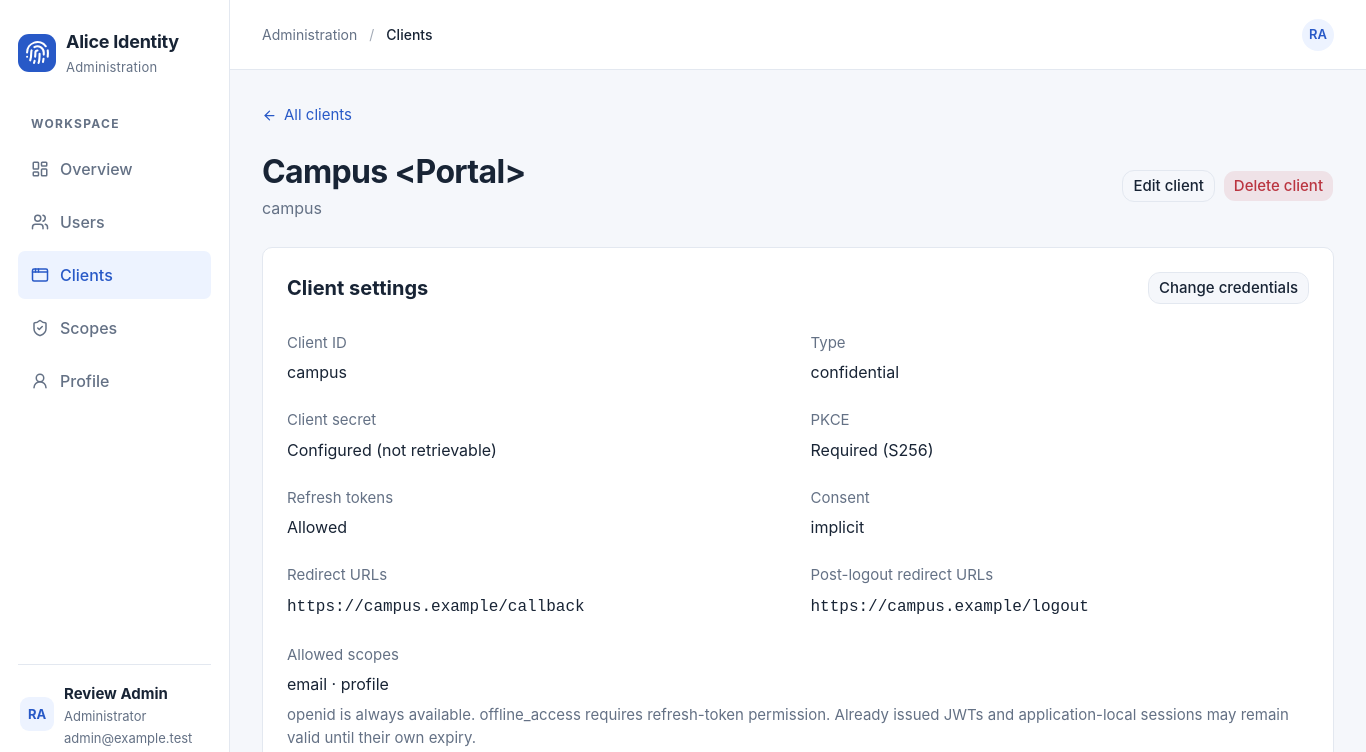
Scenario: client management › edits settings without sending a secret or changing the client ID
The width and height of the screenshot is (1366, 752).
Click the button "Edit client" at (1169, 186), box [1122,170,1215,202]
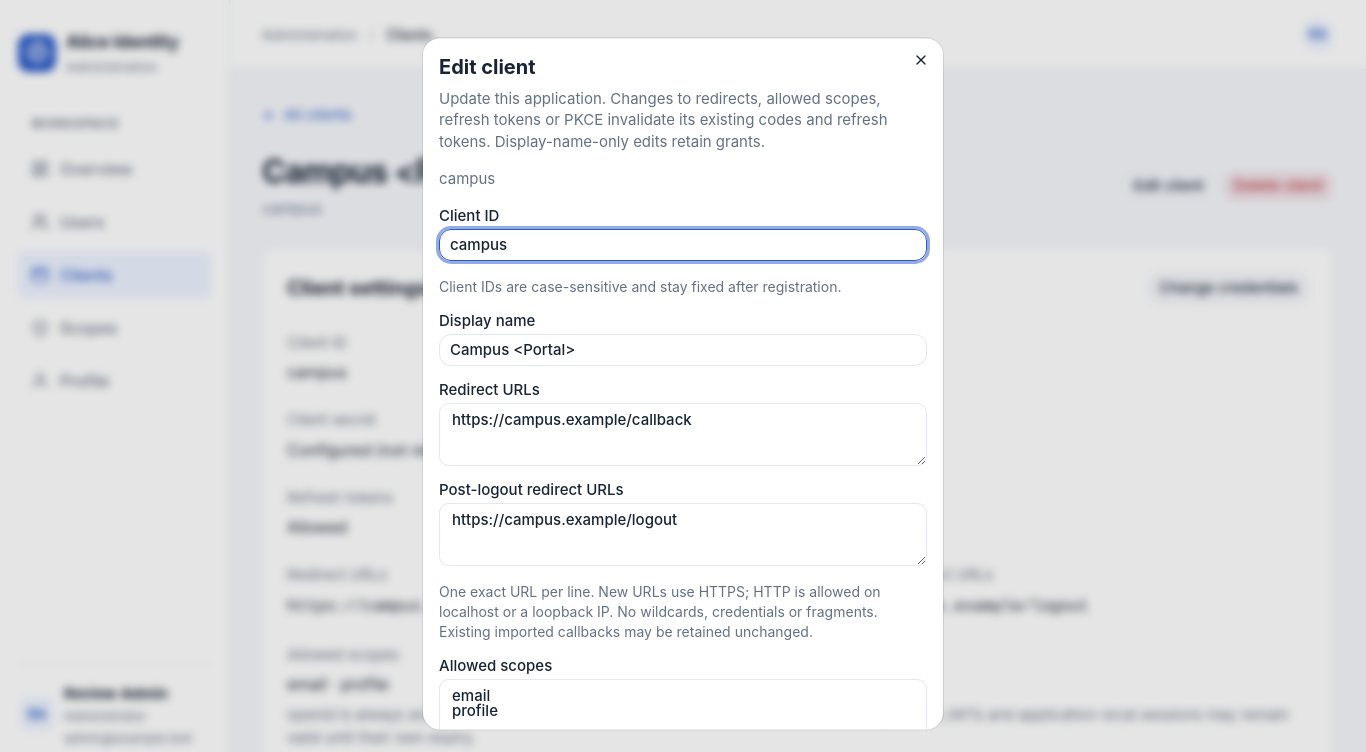
Replace the text in the field labelled "Display name" with "Edited Portal" at (683, 350), box [439,334,927,366]
(page scrolled)
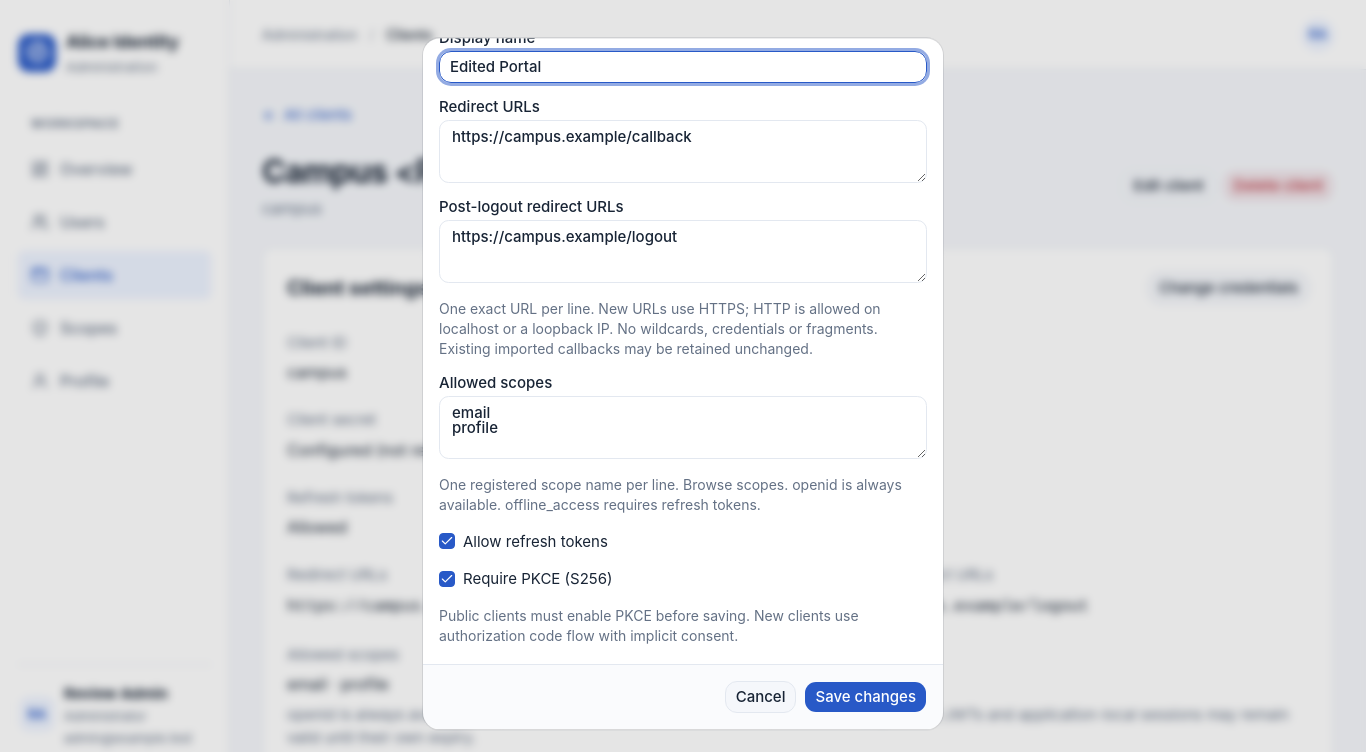
Click the checkbox named "Allow refresh tokens" next to "Allow refresh tokens" at (447, 542), box [439,534,455,550]
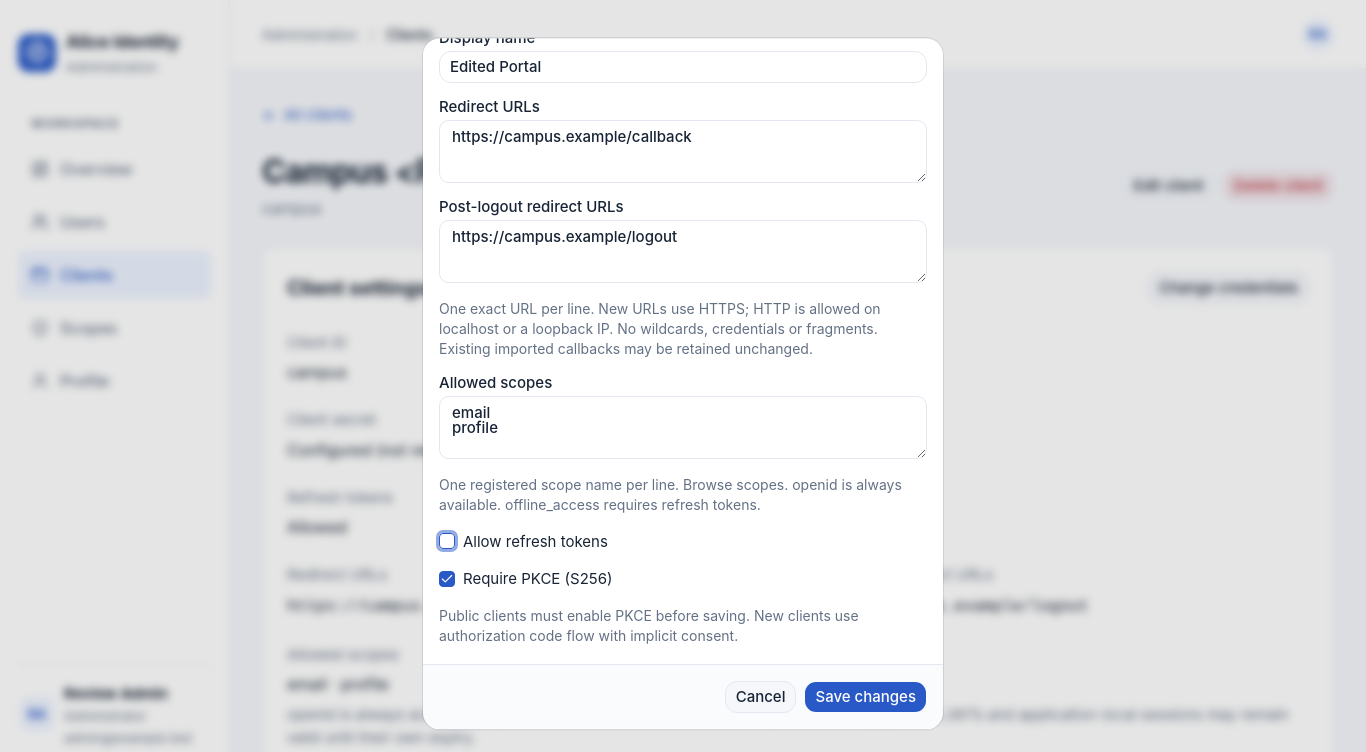
Click the button "Save changes" at (866, 697), box [804,681,927,713]
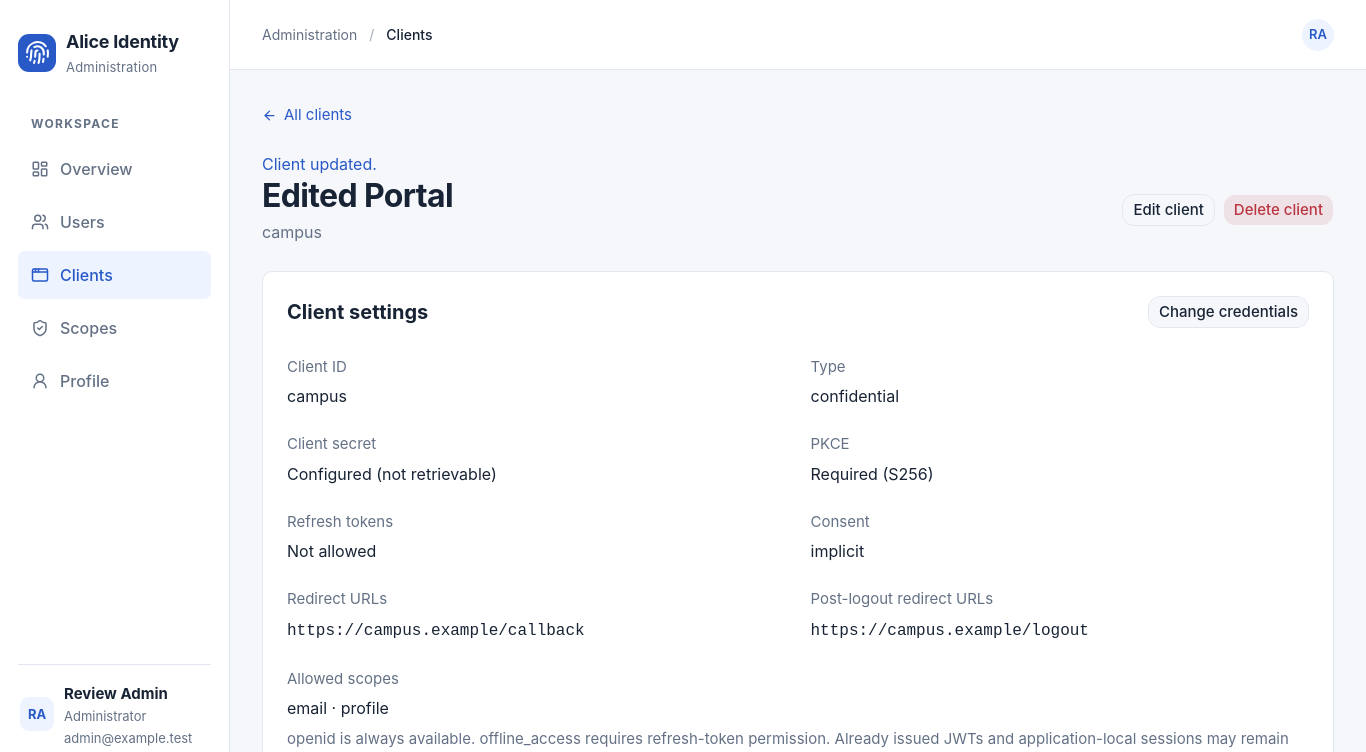
Expected: the heading "Edited Portal" is shown, [262,176,453,216]
